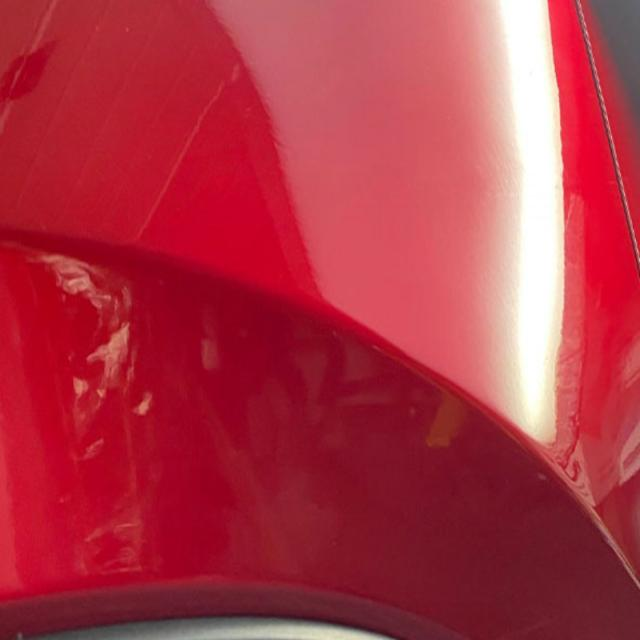dents: (539, 401, 617, 522)
